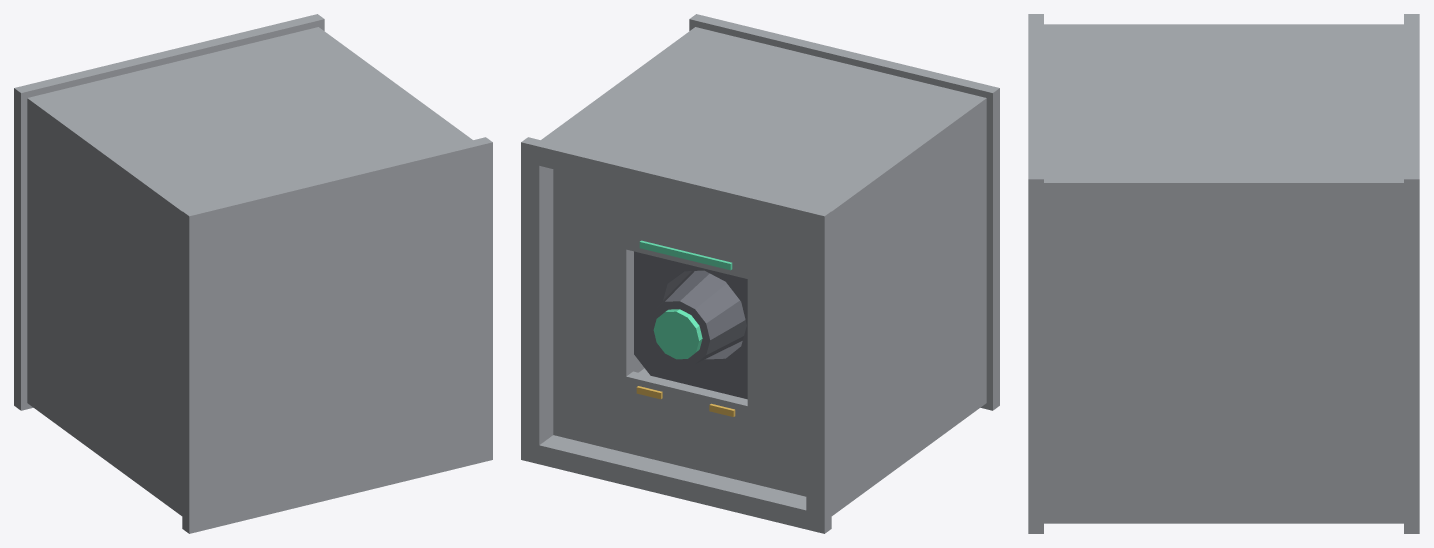
Rendered from mining_beam_compact.glb.
3 renders of one model, left to right at view 1: azimuth 30°, elevation 25°; view 2: azimuth 150°, elevation 25°; view 3: azimuth 270°, elevation 25°, orthographic. The views are drawn at different scales.
Parts seen in each view (by area): view 1: object 1; view 2: object 1, beam_tip; view 3: object 1.
Part boxes in pixels (<box>): object 1: <box>14,14,492,533</box>; object 1: <box>521,14,999,533</box>; beam_tip: <box>649,270,746,364</box>; object 1: <box>1028,14,1419,533</box>.
Size of the model in its own units: 1 by 1 by 1.
